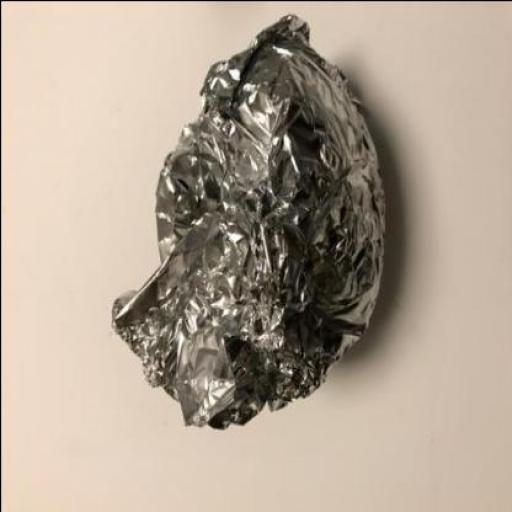metal: (109, 14, 382, 432)
